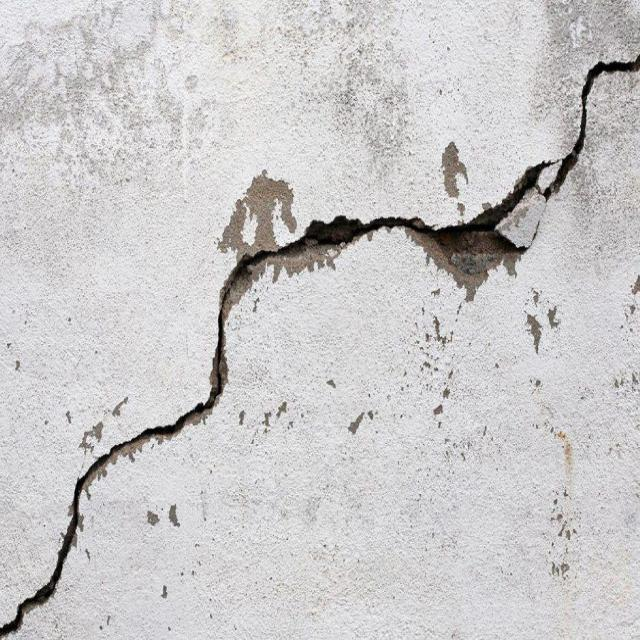crack: (0, 159, 558, 639), (542, 57, 639, 198)
